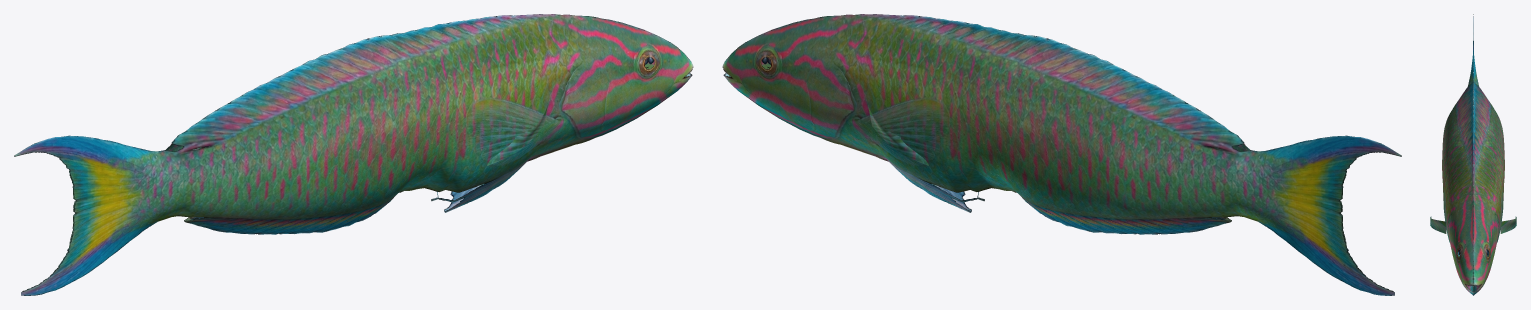
Rendered from moon-wrasse.glb.
3 renders of one model, left to right at view 1: azimuth 30°, elevation 25°; view 2: azimuth 150°, elevation 25°; view 3: azimuth 270°, elevation 25°, orthographic. The views are drawn at different scales.
Visible parts, largest first — view 1: Thalassoma lunare; view 2: Thalassoma lunare; view 3: Thalassoma lunare.
Boxes of the visible parts, box(x1,y1,x2,y2) form: Thalassoma lunare: box(14, 14, 693, 295); Thalassoma lunare: box(722, 14, 1401, 295); Thalassoma lunare: box(1430, 14, 1516, 295).
Bounding box in the file's own units: 0.31 × 0.0846 × 0.051.
Materials: 1 (1 with a texture image).
